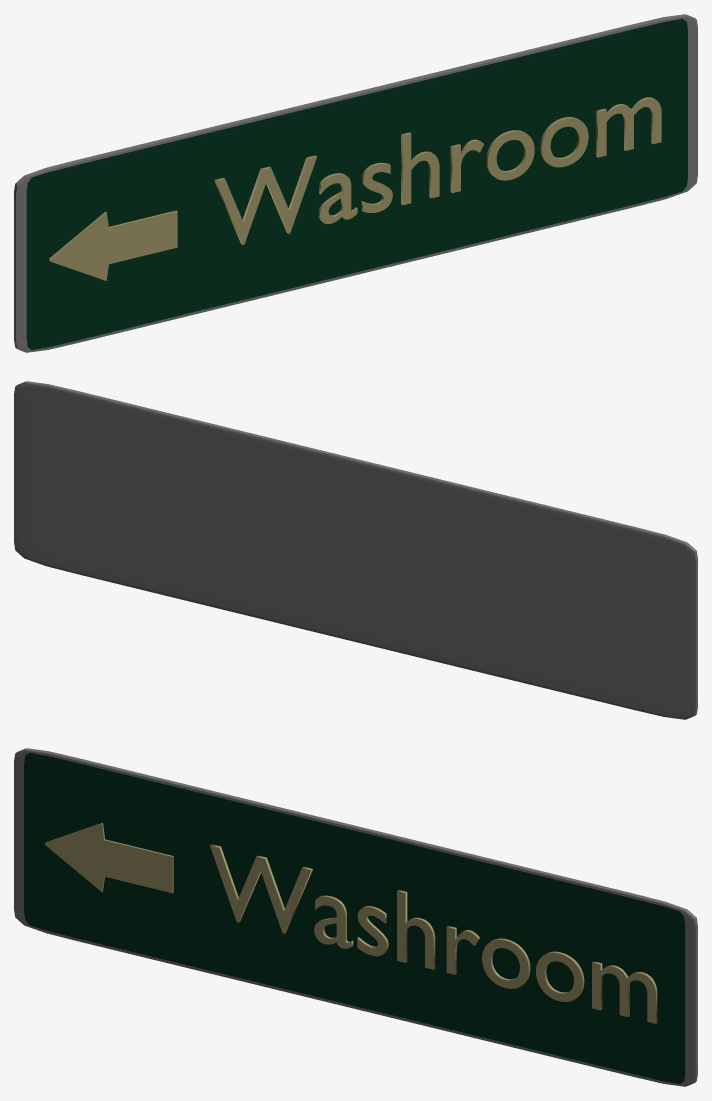
The model's file is washroom to the left.fbx.
The picture shows the model from 3 angles, top to bottom: view 1: azimuth 30°, elevation 25°; view 2: azimuth 150°, elevation 25°; view 3: azimuth 330°, elevation 25°; orthographic projection.
Visible parts, largest first — view 1: Cube.001, Text.003, Cube.003; view 2: Cube.001; view 3: Cube.001, Text.003, Cube.003.
Part boxes in pixels (x1,y1,x2,y2): Cube.001: [14, 14, 697, 352]; Text.003: [214, 97, 661, 244]; Cube.003: [49, 210, 177, 280]; Cube.001: [14, 381, 697, 719]; Cube.001: [14, 748, 697, 1086]; Text.003: [210, 844, 657, 1023]; Cube.003: [45, 822, 173, 893].
Size of the model in its own units: 1504 by 382 by 16.14.
